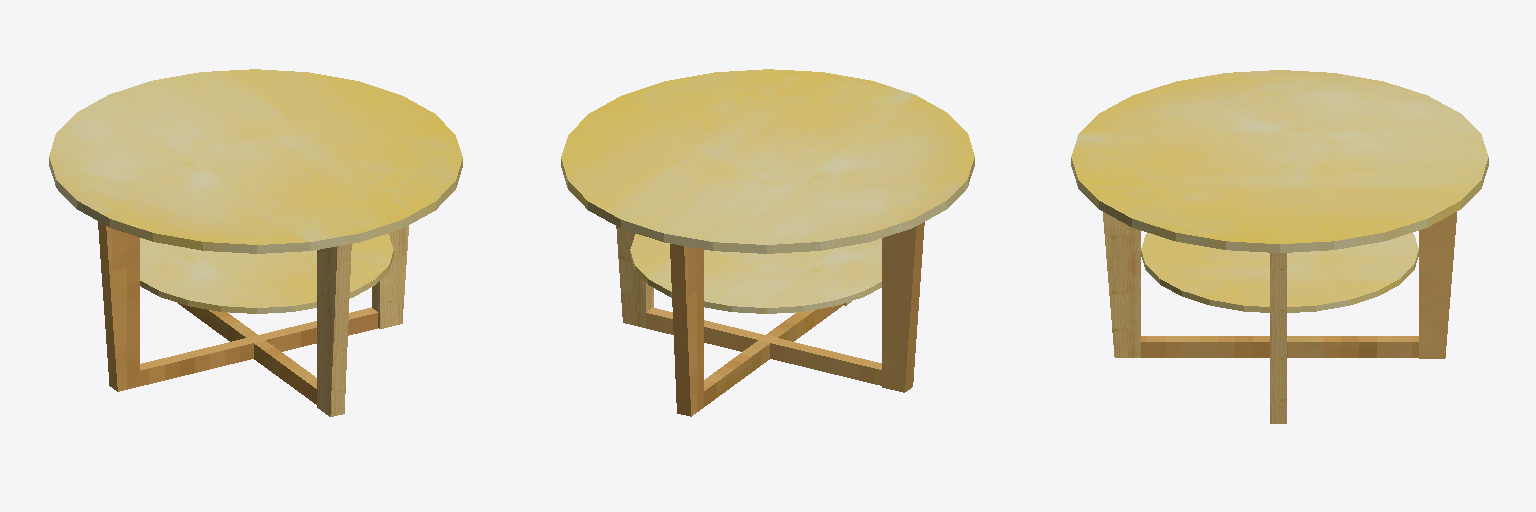
3 renders of one model, left to right at view 1: azimuth 30°, elevation 25°; view 2: azimuth 150°, elevation 25°; view 3: azimuth 270°, elevation 25°, orthographic.
Visible parts, largest first — view 1: Mesh7 Group1 Model, Mesh5 Group1 Model, Mesh6 Group1 Model, Mesh1 Group2 Group1 Model, Mesh4 Group5 Group1 Model, Mesh3 Group4 Group1 Model; view 2: Mesh7 Group1 Model, Mesh5 Group1 Model, Mesh6 Group1 Model, Mesh1 Group2 Group1 Model, Mesh2 Group3 Group1 Model, Mesh3 Group4 Group1 Model; view 3: Mesh7 Group1 Model, Mesh5 Group1 Model, Mesh6 Group1 Model, Mesh2 Group3 Group1 Model, Mesh4 Group5 Group1 Model, Mesh3 Group4 Group1 Model.
Boxes of the visible parts, <box> form: Mesh7 Group1 Model: <box>49,69,462,253</box>; Mesh5 Group1 Model: <box>140,234,393,313</box>; Mesh6 Group1 Model: <box>140,304,377,404</box>; Mesh1 Group2 Group1 Model: <box>98,221,139,391</box>; Mesh4 Group5 Group1 Model: <box>317,244,351,416</box>; Mesh3 Group4 Group1 Model: <box>372,225,408,328</box>; Mesh7 Group1 Model: <box>561,69,974,253</box>; Mesh5 Group1 Model: <box>630,234,881,313</box>; Mesh6 Group1 Model: <box>646,304,881,406</box>; Mesh1 Group2 Group1 Model: <box>882,222,924,392</box>; Mesh2 Group3 Group1 Model: <box>670,244,703,416</box>; Mesh3 Group4 Group1 Model: <box>616,226,653,327</box>; Mesh7 Group1 Model: <box>1071,70,1488,252</box>; Mesh5 Group1 Model: <box>1141,233,1418,312</box>; Mesh6 Group1 Model: <box>1141,336,1418,357</box>; Mesh2 Group3 Group1 Model: <box>1419,212,1456,358</box>; Mesh4 Group5 Group1 Model: <box>1103,212,1140,357</box>; Mesh3 Group4 Group1 Model: <box>1270,253,1286,423</box>.
Size of the model in its own units: 34.99 by 18.5 by 35.4.
Materials: 3 (3 with a texture image).